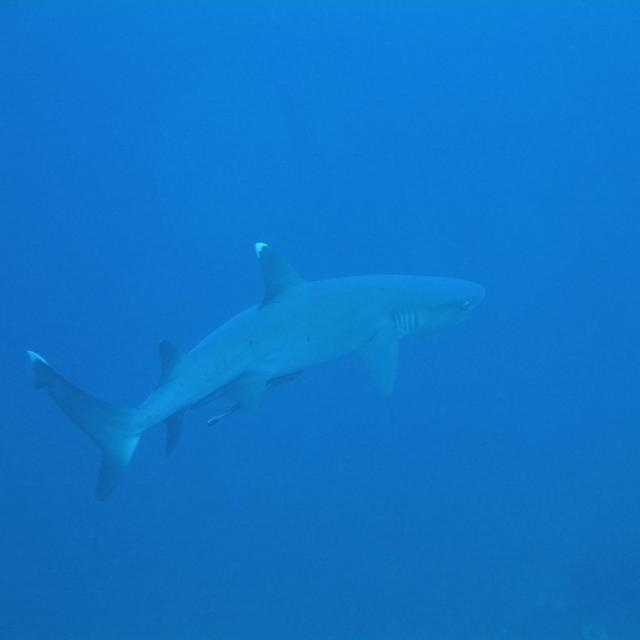Shark: (31, 244, 486, 498)
